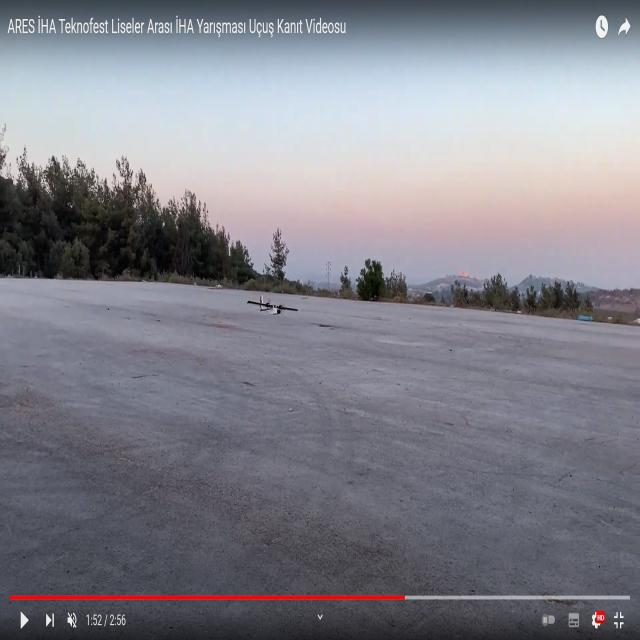iha: (248, 298, 294, 324)
